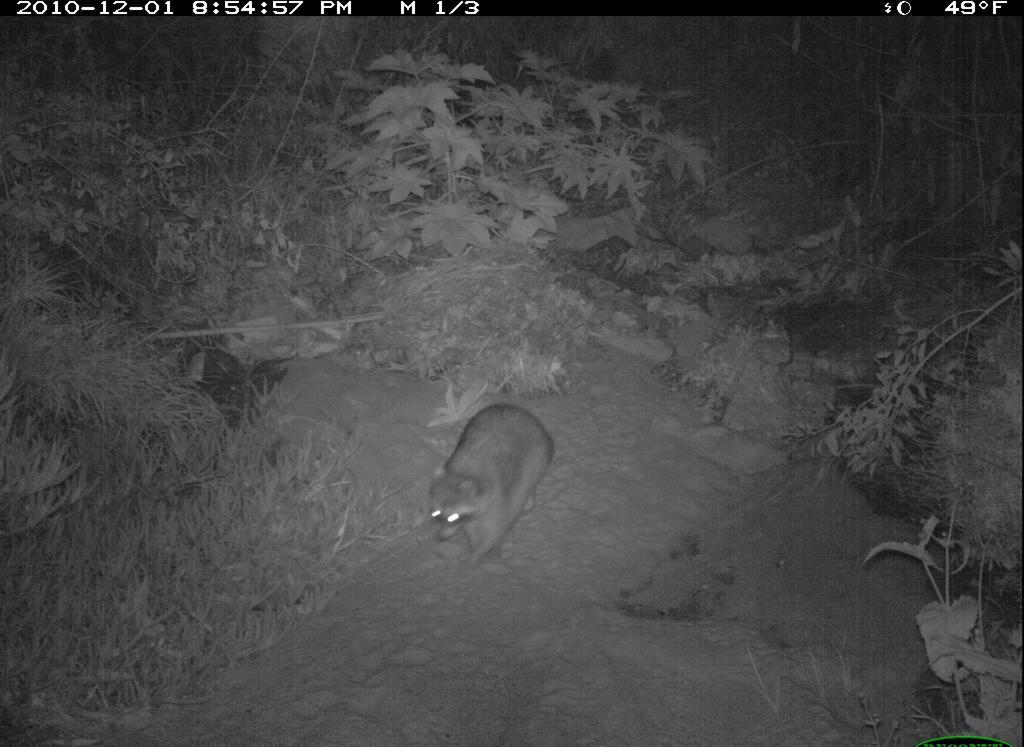raccoon: (420, 397, 568, 580)
